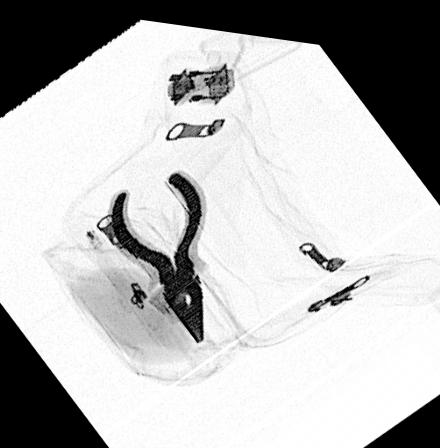Pliers: (106, 164, 208, 338)
